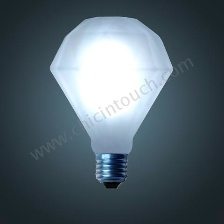light_bulb: (47, 12, 177, 190)
